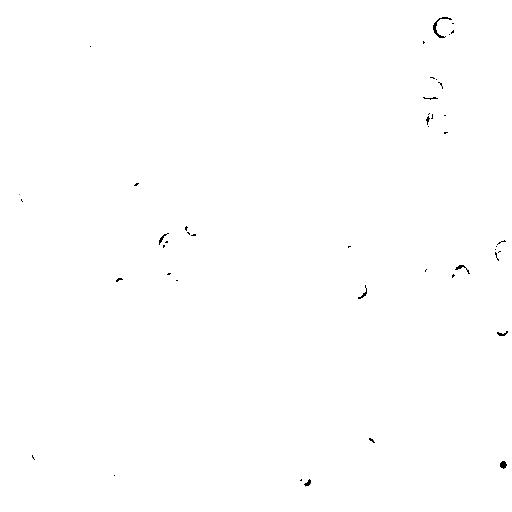micro-algae: (183, 2, 377, 189), (134, 39, 262, 171), (344, 315, 415, 391), (329, 37, 387, 95), (77, 251, 127, 301), (175, 433, 225, 480), (120, 395, 166, 445), (384, 284, 421, 317), (287, 437, 321, 472), (424, 104, 457, 137), (73, 1, 103, 31), (118, 474, 150, 501), (486, 449, 511, 482), (140, 243, 169, 271), (127, 177, 156, 204), (431, 13, 460, 39), (410, 26, 436, 55), (416, 75, 445, 101), (156, 231, 184, 257), (187, 0, 212, 28), (29, 443, 57, 467), (183, 60, 207, 86), (147, 375, 171, 401), (279, 277, 307, 299), (85, 41, 108, 67), (63, 133, 85, 159), (18, 180, 40, 204), (450, 263, 471, 288), (102, 473, 125, 495), (347, 279, 371, 300), (491, 238, 510, 264), (420, 260, 441, 283), (180, 219, 201, 239), (10, 10, 29, 31), (334, 378, 353, 399), (341, 242, 361, 261), (95, 357, 116, 375), (297, 469, 313, 490), (89, 231, 107, 248), (113, 276, 130, 293), (347, 263, 365, 277), (496, 319, 510, 337), (147, 502, 170, 511), (362, 436, 375, 450)
